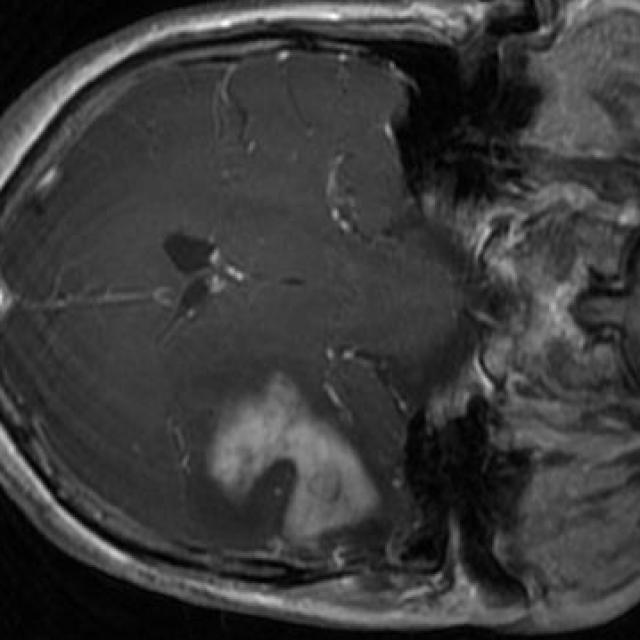glioma: (207, 374, 380, 538)
